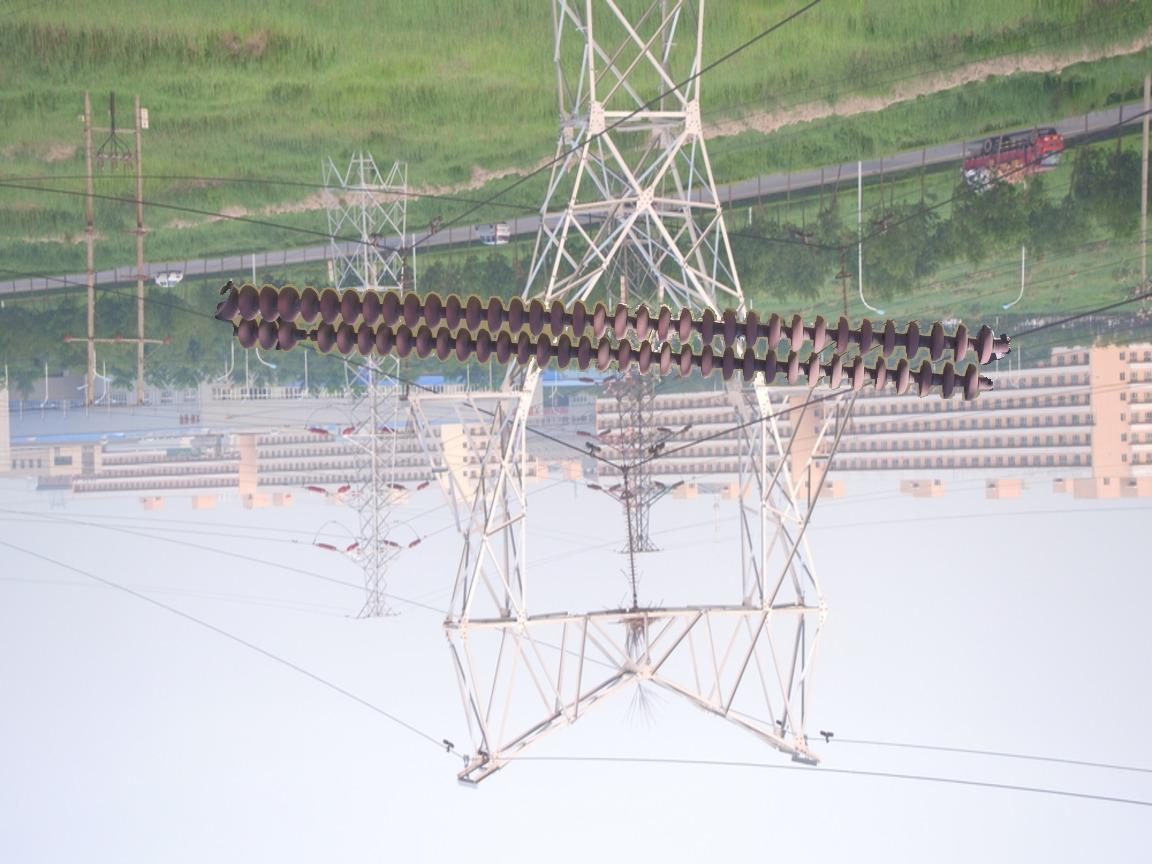insulator: (216, 277, 1004, 406)
insulator_stringdrop: (275, 319, 338, 356)
